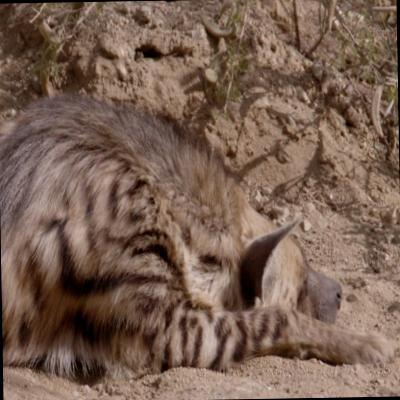hyenas: (0, 46, 368, 394)
